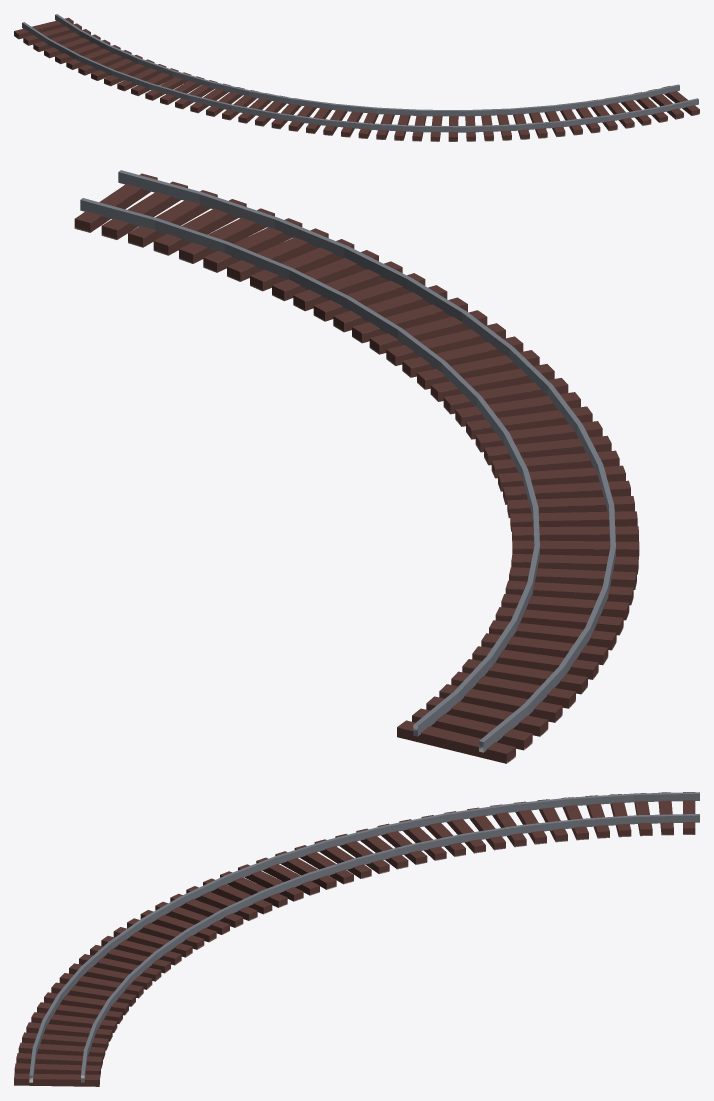
File: curve-8-track.blend.glb
The picture shows the model from 3 angles, top to bottom: view 1: azimuth 30°, elevation 25°; view 2: azimuth 150°, elevation 25°; view 3: azimuth 270°, elevation 25°; orthographic projection. The views are drawn at different scales.
Parts seen in each view (by area): view 1: curve-8; view 2: curve-8; view 3: curve-8.
Boxes of the visible parts, x1,y1,x2,y2 form: curve-8: (14,14,699,141); curve-8: (74,170,639,763); curve-8: (14,792,699,1086).
Bounding box in the file's own units: 16 × 0.3391 × 16.
Materials: 1 (1 with a texture image).
